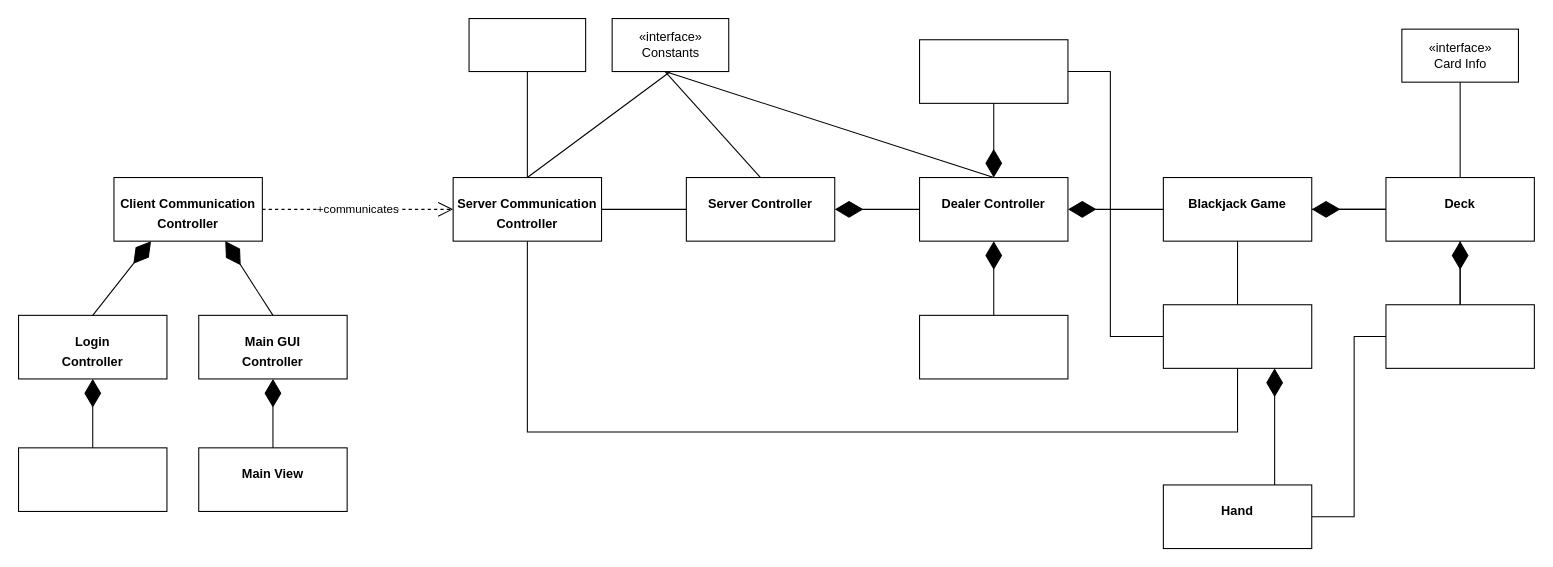
This 1553x567 diagram has some shape labels left out. Each missing label, with the centre of its shape:
Card: point (1459, 336)
Dealer View: point (993, 346)
Login View: point (92, 479)
Player: point (1237, 336)
Player Accounts: point (993, 71)
«interface» Runnable: point (527, 44)
